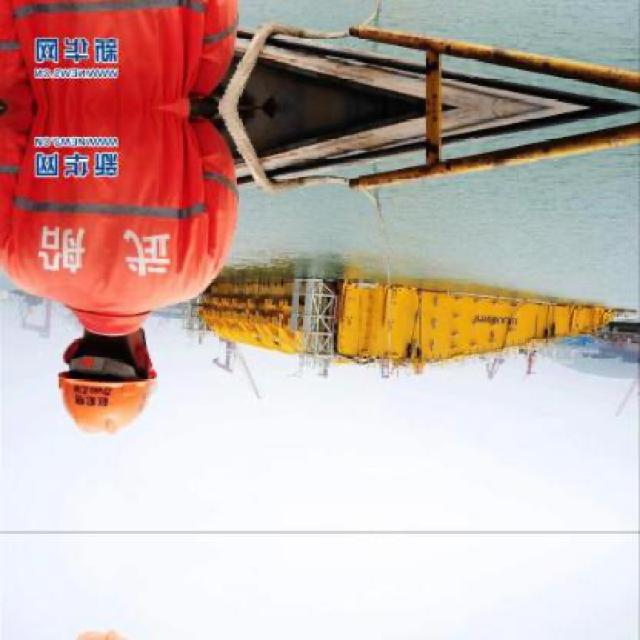con casco: (32, 230, 180, 455)
